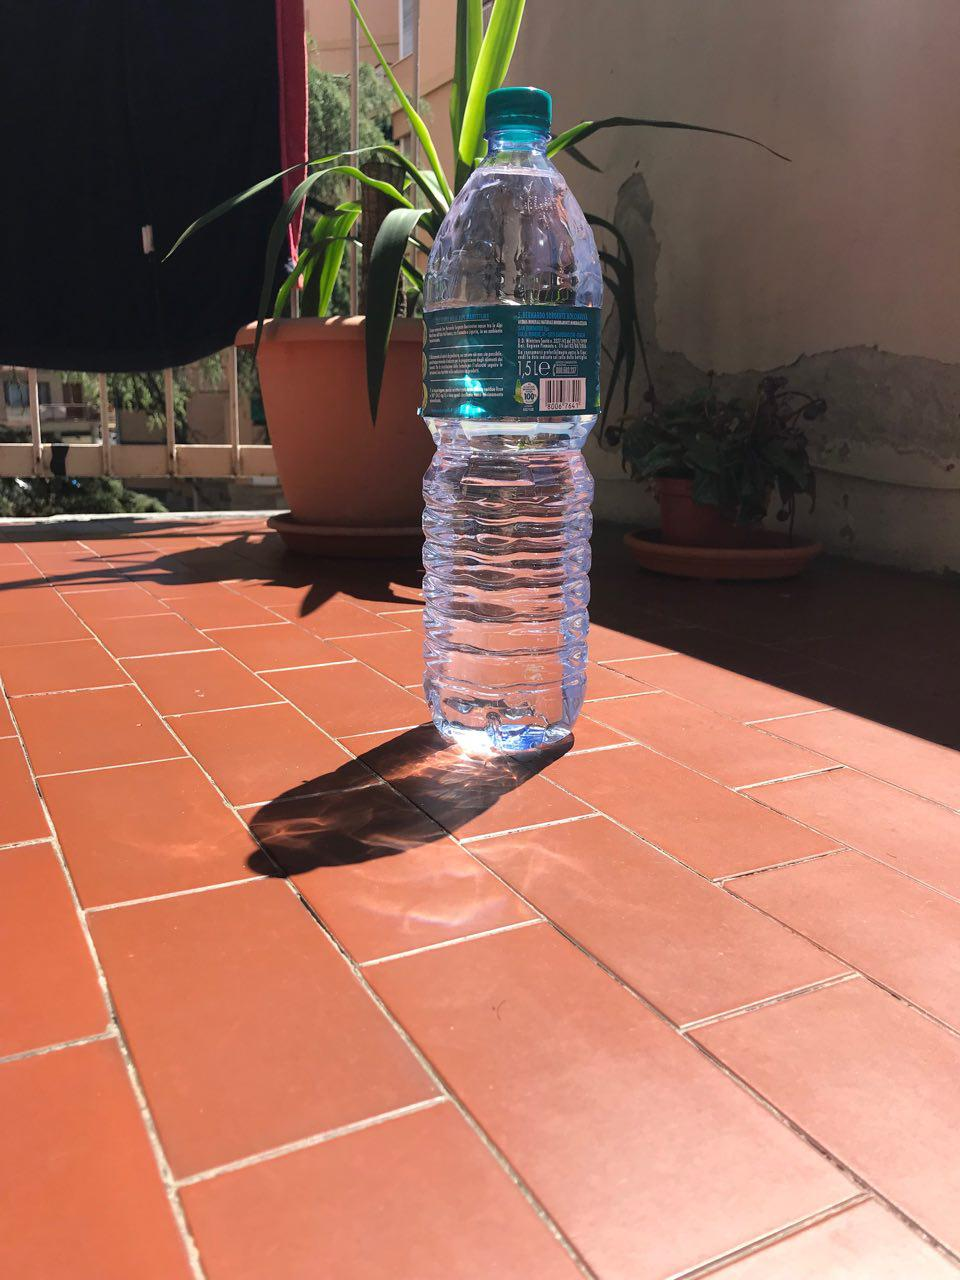san_bernardo: (421, 86, 604, 753)
